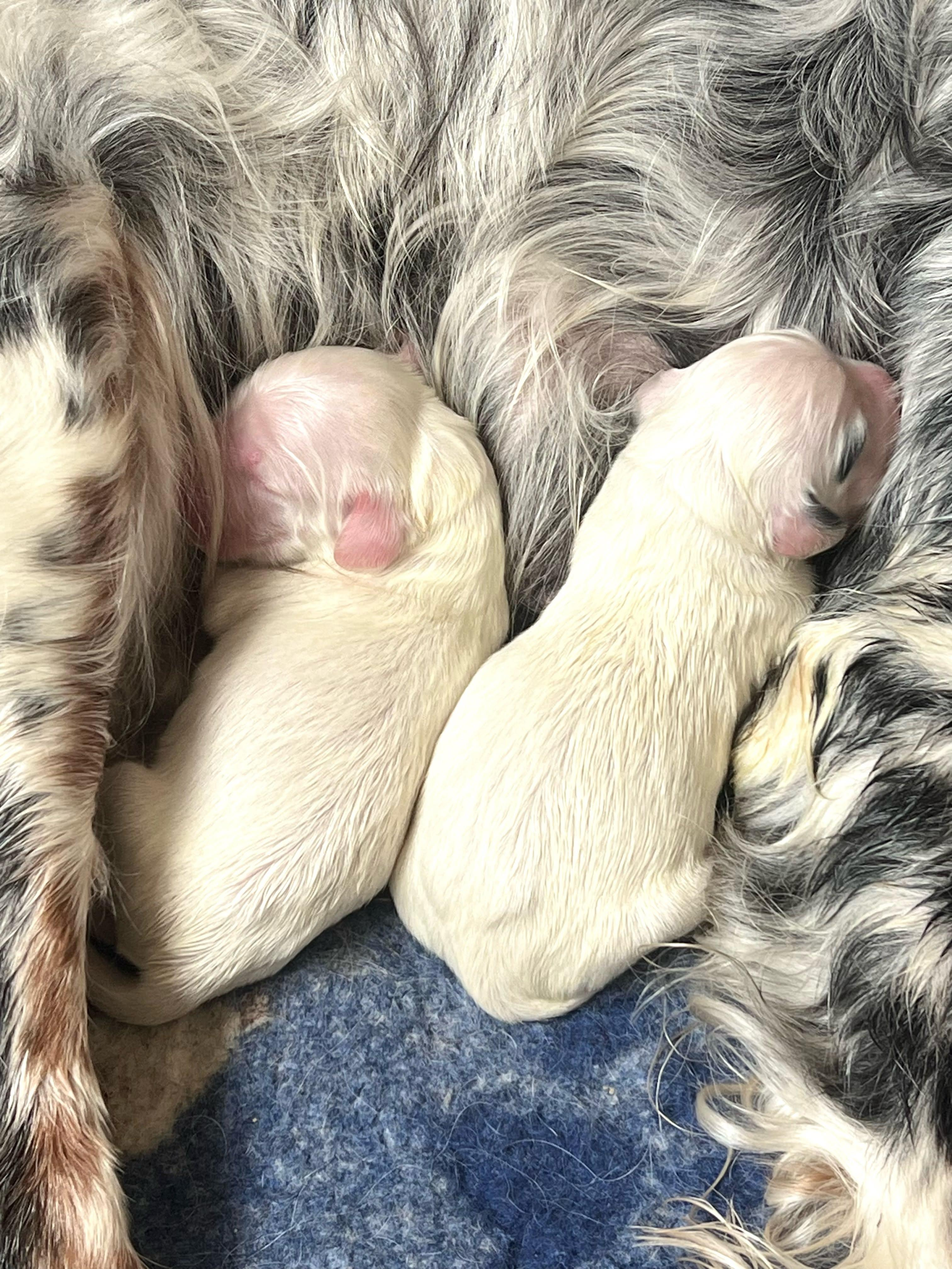adult_dog: (0, 0, 952, 1269)
puppy-dog: (388, 328, 904, 1028), (79, 341, 511, 1030)
